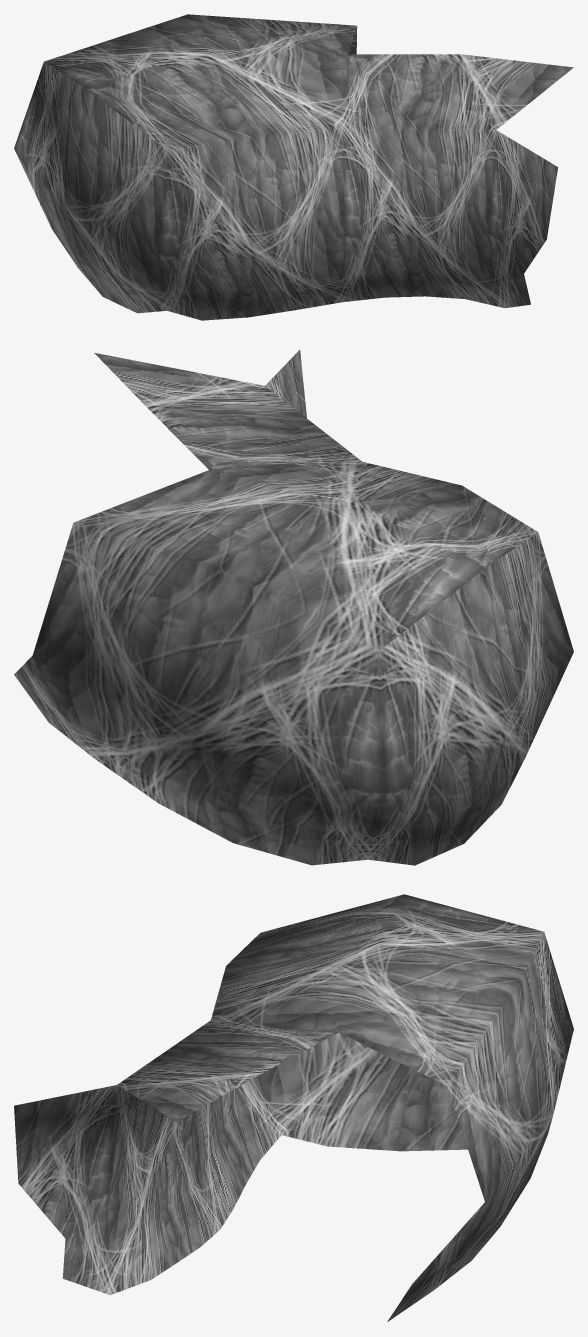
The model's file is SWORDLIGHT20_PS-AREA01_26.fbx.
The picture shows the model from 3 angles, top to bottom: view 1: azimuth 30°, elevation 25°; view 2: azimuth 150°, elevation 25°; view 3: azimuth 270°, elevation 25°; orthographic projection. The views are drawn at different scales.
Parts seen in each view (by area): view 1: SWORDLIGHT20_PS-AREA01_26; view 2: SWORDLIGHT20_PS-AREA01_26; view 3: SWORDLIGHT20_PS-AREA01_26.
Boxes of the visible parts, x1=… form: SWORDLIGHT20_PS-AREA01_26: x1=14, y1=14, x2=573, y2=320; SWORDLIGHT20_PS-AREA01_26: x1=14, y1=350, x2=573, y2=865; SWORDLIGHT20_PS-AREA01_26: x1=14, y1=894, x2=573, y2=1321.
Size of the model in its own units: 116615 by 61299 by 118351.
Materials: 1 (1 with a texture image).
